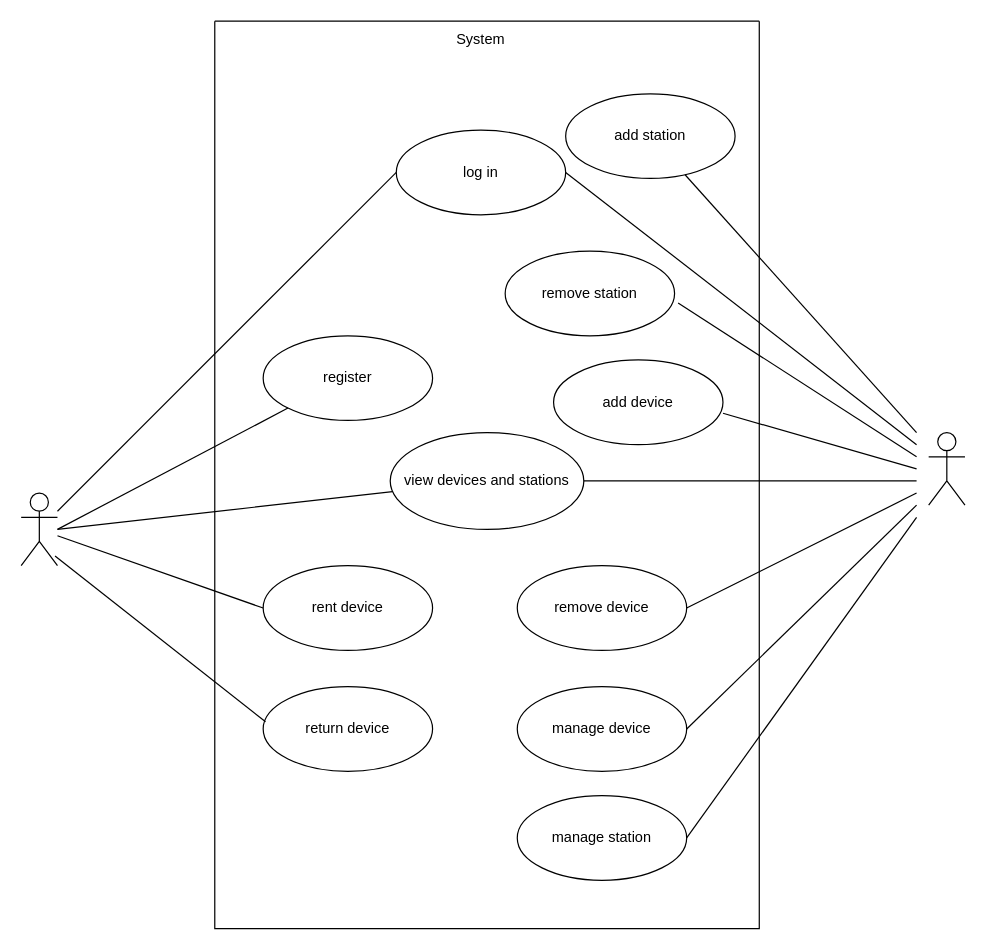
Image size: 987x950. Some labels were removed from this diagram. Each missing label, with the box of its shape:
admin: (927, 431, 965, 505)
user: (20, 492, 57, 566)
